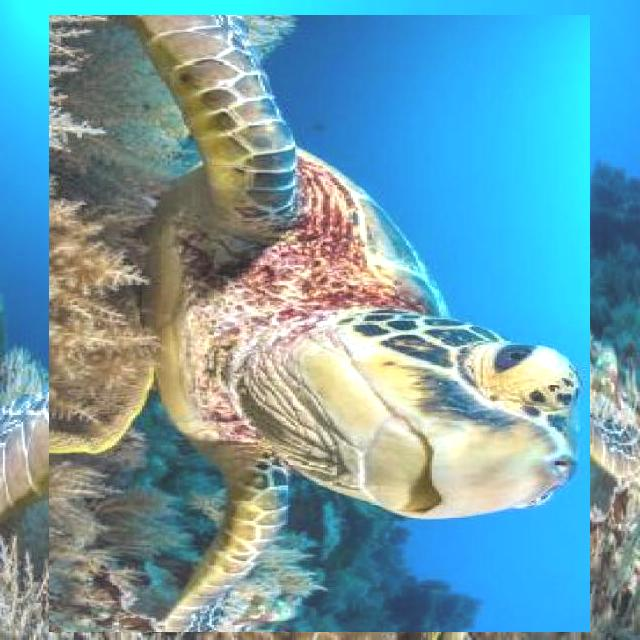Sea turtle: (30, 34, 609, 613)
